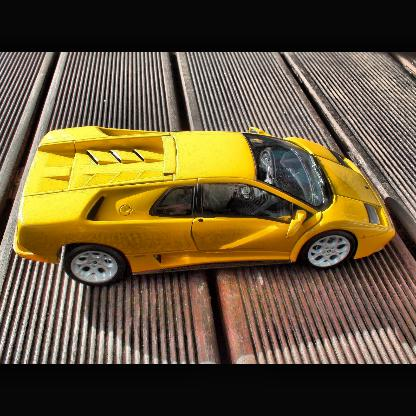Lamborghini Diablo Coupe 2001: (10, 109, 408, 307)
